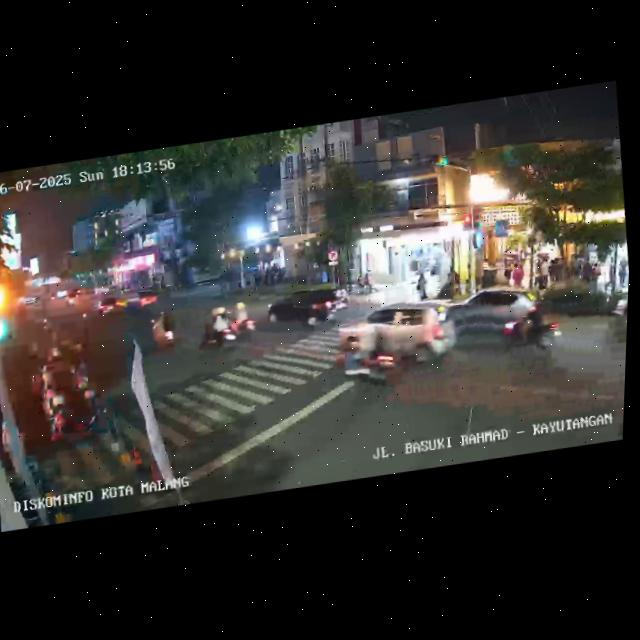car: (334, 293, 458, 383), (443, 278, 555, 362), (261, 282, 346, 337), (123, 288, 161, 314), (94, 293, 119, 318)
motorcycle: (331, 312, 401, 398), (497, 289, 563, 360), (194, 302, 244, 356), (226, 297, 262, 351), (148, 309, 180, 355), (607, 287, 628, 330)
person: (600, 255, 618, 299), (536, 254, 552, 292), (615, 255, 630, 287), (511, 260, 526, 289), (415, 271, 429, 300)
